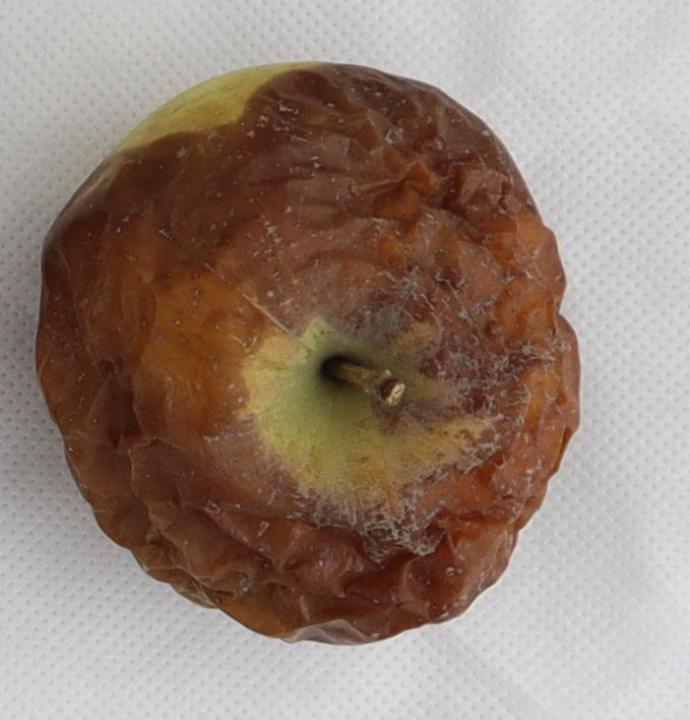apple: (38, 63, 578, 642)
rot_mold_decay: (39, 66, 577, 643)
